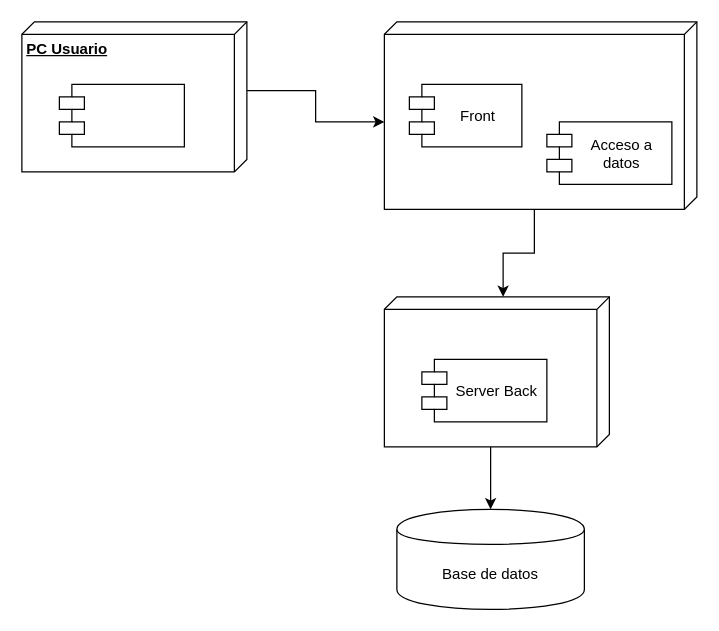
The diagram is 719 pixels wide and 631 high, and some of its shapes have lost their labels. Here are the shapes that lost their labels. From the top down, the box of each, then its label:
(58, 83, 184, 147): App Web
(383, 21, 697, 209): Servidor de Aplicacion
(383, 296, 609, 447): Actualizacion de Cuentas
